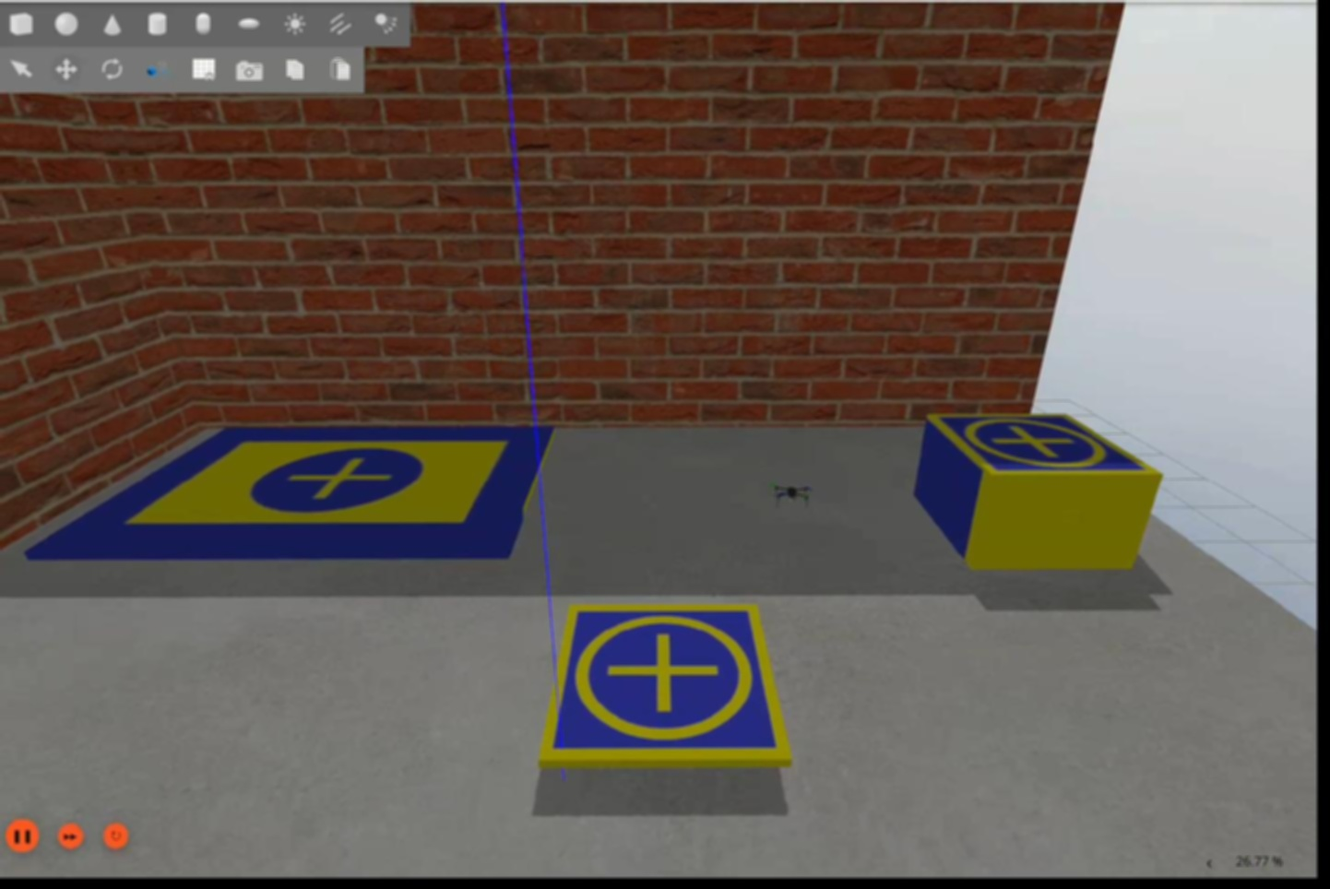large_base: (27, 426, 560, 562)
small_base: (538, 602, 797, 771), (921, 411, 1168, 488)
